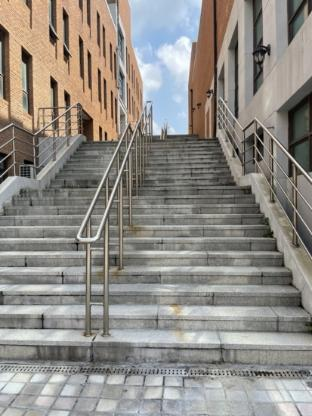stair: (134, 125, 300, 380), (0, 132, 122, 360)
